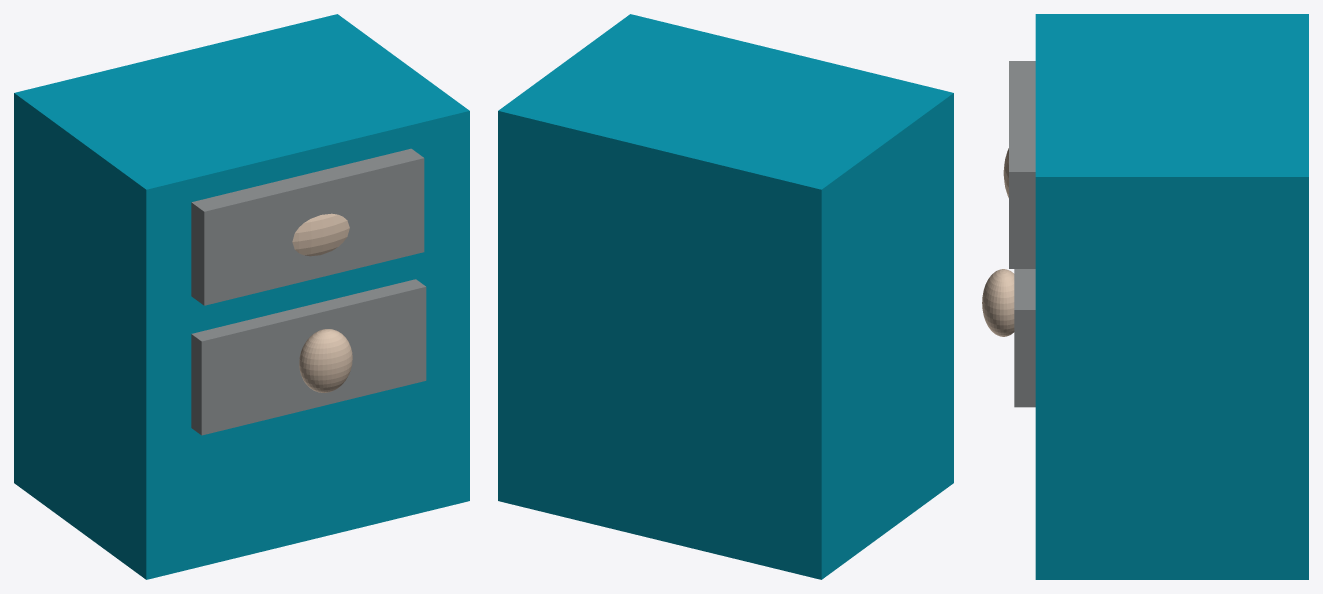
File: Bodacious Wluff.glb
The picture shows the model from 3 angles, left to right: view 1: azimuth 30°, elevation 25°; view 2: azimuth 150°, elevation 25°; view 3: azimuth 270°, elevation 25°; orthographic projection. The views are drawn at different scales.
Visible parts, largest first — view 1: Mesh_Mesh_head_geo.001_lambert2SG.001; view 2: Mesh_Mesh_head_geo.001_lambert2SG.001; view 3: Mesh_Mesh_head_geo.001_lambert2SG.001.
Part boxes in pixels (x1,y1,x2,y2): Mesh_Mesh_head_geo.001_lambert2SG.001: [14, 14, 469, 579]; Mesh_Mesh_head_geo.001_lambert2SG.001: [498, 14, 953, 579]; Mesh_Mesh_head_geo.001_lambert2SG.001: [982, 14, 1308, 579].
Bounding box in the file's own units: 72 × 83 × 61.
